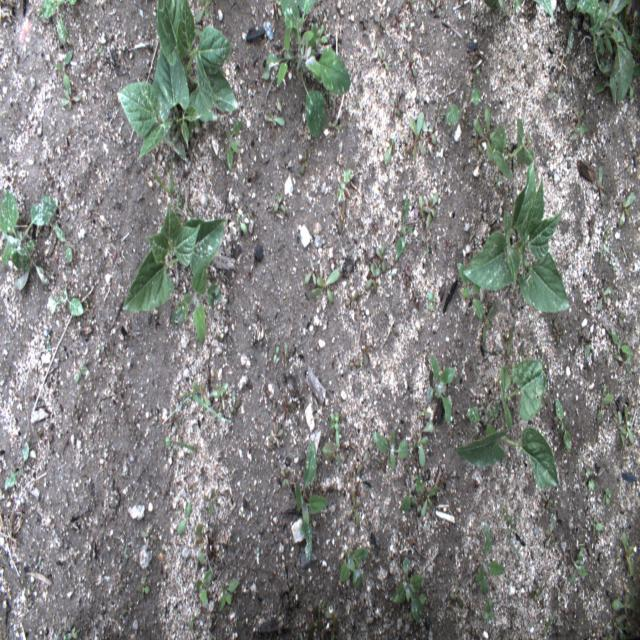crop: (113, 0, 236, 162), (454, 157, 570, 316), (454, 349, 561, 510), (122, 189, 228, 348), (261, 0, 352, 142)
weed: (565, 2, 639, 102), (0, 189, 62, 292), (293, 440, 326, 559), (471, 106, 514, 181), (161, 390, 232, 426), (477, 515, 508, 593), (37, 0, 84, 49), (390, 571, 427, 626), (45, 268, 85, 318), (429, 352, 456, 423), (400, 473, 440, 518), (373, 428, 410, 473), (444, 84, 481, 129), (456, 262, 483, 320), (396, 192, 416, 261), (4, 441, 31, 491), (512, 113, 538, 164), (339, 549, 370, 591), (610, 326, 632, 377), (54, 45, 74, 101), (310, 268, 340, 304), (321, 410, 340, 465), (224, 117, 243, 169), (405, 110, 427, 151), (569, 544, 589, 587), (610, 584, 638, 614), (555, 399, 570, 454), (596, 383, 615, 424), (195, 566, 214, 606), (417, 188, 437, 226), (218, 580, 240, 613), (621, 530, 636, 578), (52, 224, 72, 260), (362, 258, 382, 293), (336, 162, 354, 200), (210, 381, 228, 417), (618, 406, 634, 446), (304, 253, 320, 289), (261, 106, 287, 128), (618, 194, 634, 229), (595, 284, 613, 314), (412, 436, 428, 469), (374, 46, 392, 74), (195, 522, 206, 566), (177, 506, 191, 536), (575, 106, 589, 135), (589, 515, 607, 537), (423, 407, 438, 433), (74, 356, 88, 382), (273, 191, 288, 214), (594, 168, 603, 205), (384, 136, 394, 166), (372, 11, 387, 30), (484, 596, 494, 624), (235, 212, 247, 235), (602, 484, 613, 507), (208, 487, 216, 518), (586, 467, 595, 492), (583, 341, 591, 360), (428, 292, 436, 311), (273, 345, 280, 362)
